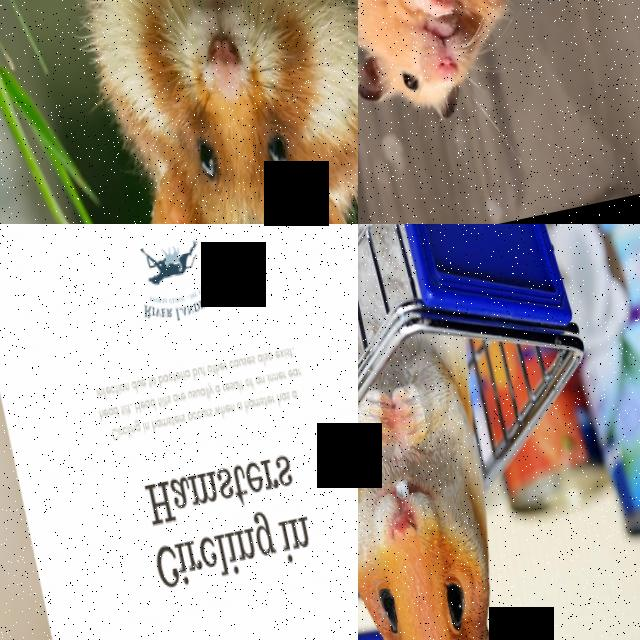hamster: (44, 0, 358, 224), (358, 324, 543, 640), (358, 0, 617, 141)
